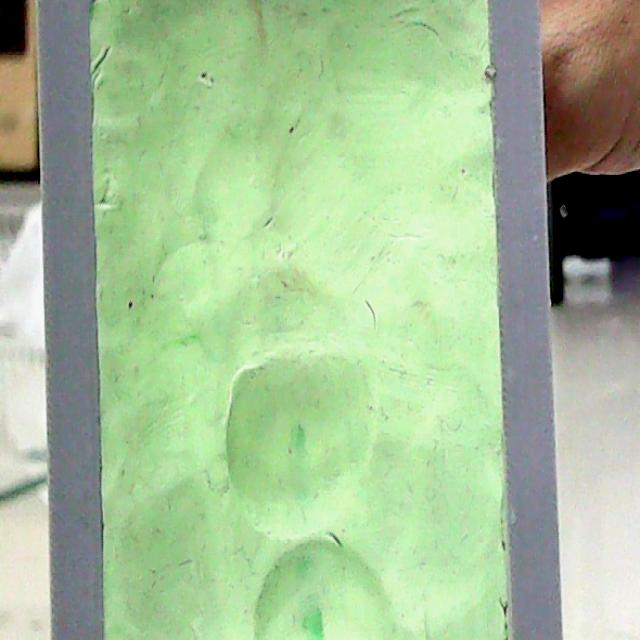block: (37, 0, 567, 640)
